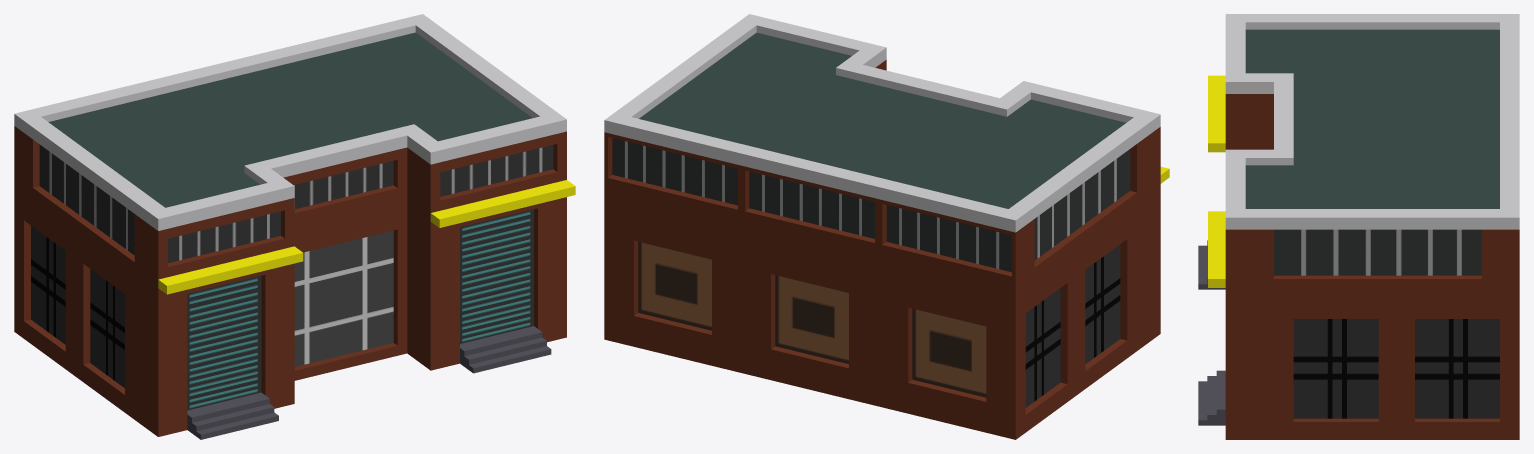
Rendered from building12a.FBX.
The picture shows the model from 3 angles, left to right: view 1: azimuth 30°, elevation 25°; view 2: azimuth 150°, elevation 25°; view 3: azimuth 270°, elevation 25°; orthographic projection. The views are drawn at different scales.
Parts seen in each view (by area): view 1: building12a; view 2: building12a; view 3: building12a.
Boxes of the visible parts, x1,y1,x2,y2 form: building12a: (14,14,575,439); building12a: (604,14,1169,439); building12a: (1198,14,1519,439).
Bounding box in the file's own units: 19.86 × 10.13 × 13.27.
